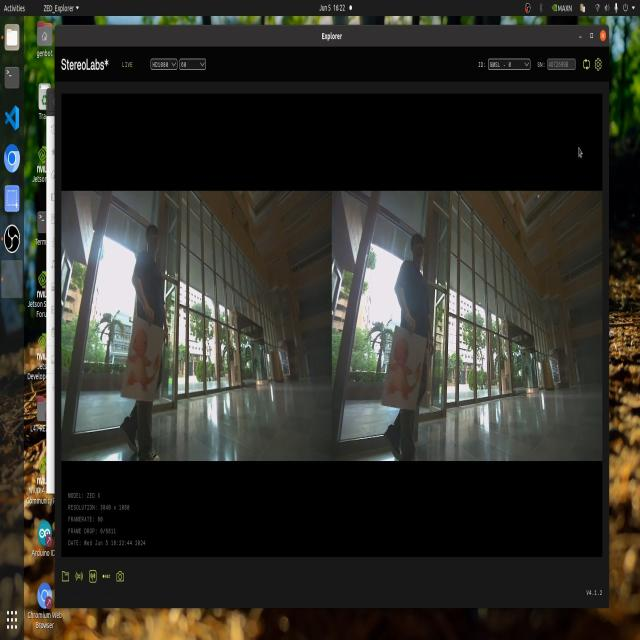red: (126, 332, 158, 393), (392, 333, 421, 397)
